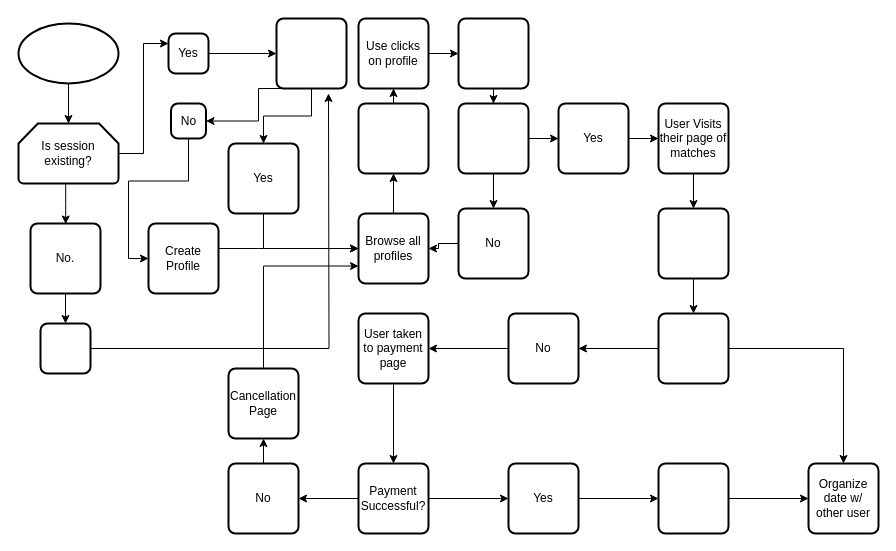
The diagram is 896 pixels wide and 551 high, and some of its shapes have lost their labels. Each missing label, with the centre of its shape:
Does other profile like back?: (493,138)
Does user have a profile?: (311,53)
Finds a profile: (393,138)
Is profile premium?: (693,348)
Log In: (65,348)
Success page: (693,498)
User clicks on 'make a date': (693,243)
User Likes a profile: (493,53)
User Visits Page: (68,53)
